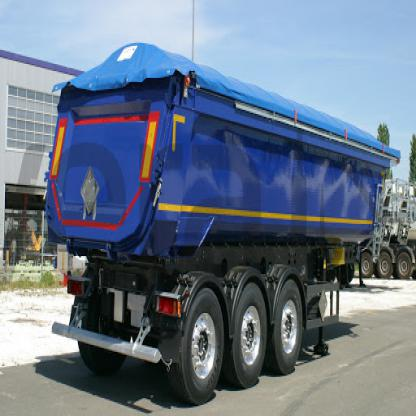normal-truck: (42, 43, 396, 411)
